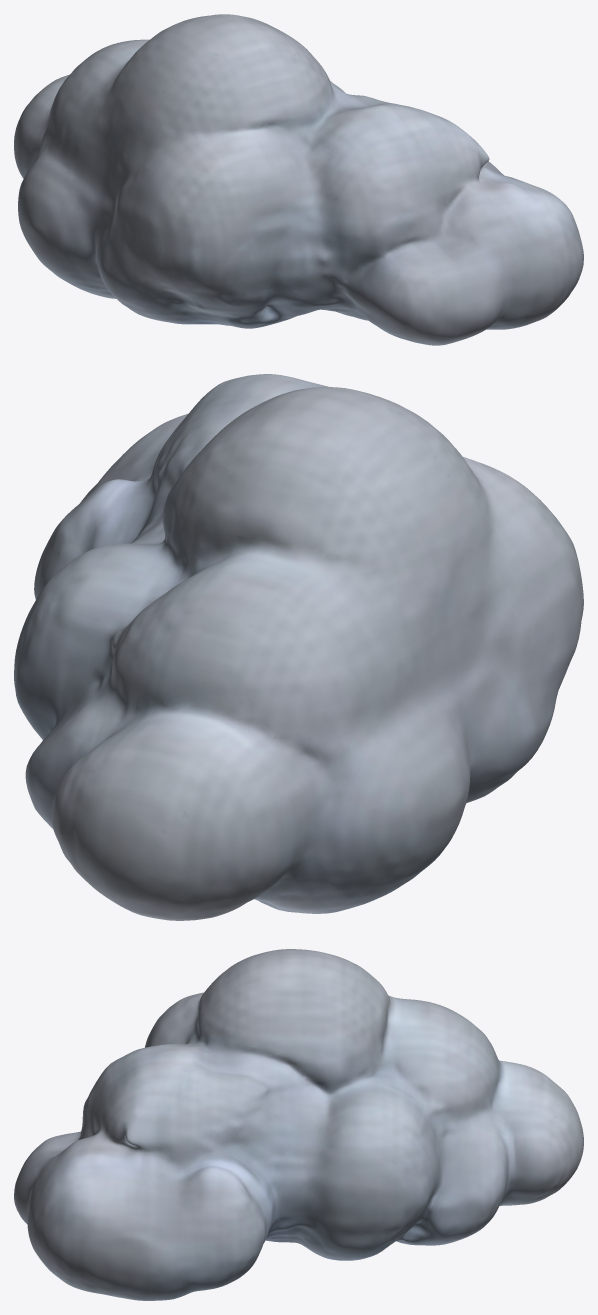
Rendered from Oxigeno.fbx.
The picture shows the model from 3 angles, top to bottom: view 1: azimuth 30°, elevation 25°; view 2: azimuth 150°, elevation 25°; view 3: azimuth 270°, elevation 25°; orthographic projection. The views are drawn at different scales.
Parts seen in each view (by area): view 1: world; view 2: world; view 3: world.
Part boxes in pixels (x1,y1,x2,y2): world: [14, 14, 583, 345]; world: [14, 374, 583, 920]; world: [14, 949, 583, 1300].
Size of the model in its own units: 110 by 82.74 by 58.59.
Materials: 1 (1 with a texture image).
